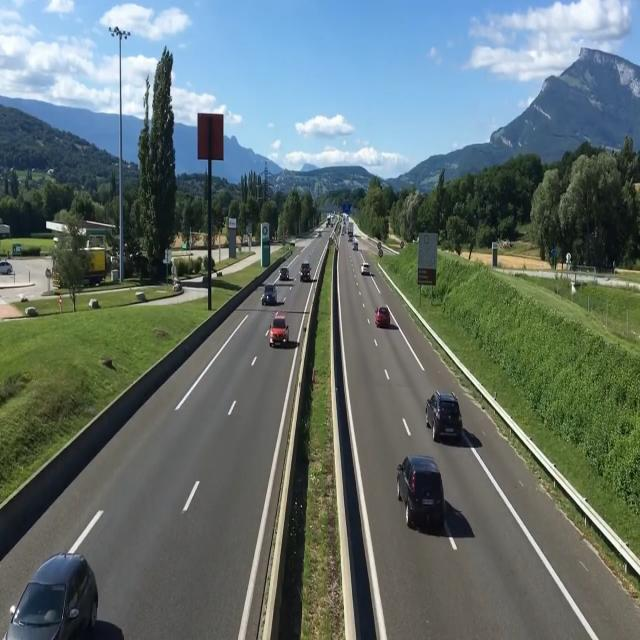car: (0, 551, 110, 640), (402, 456, 452, 545), (428, 388, 466, 446), (270, 319, 291, 353), (260, 278, 279, 308), (376, 305, 395, 333), (298, 256, 314, 284)
